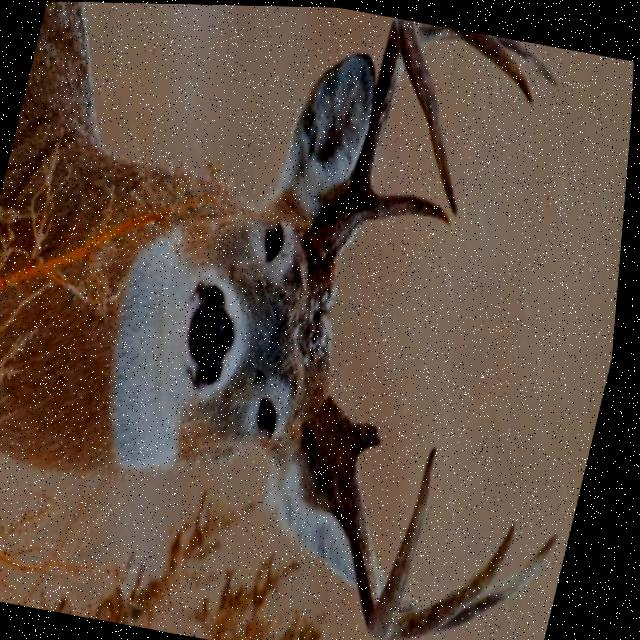L-F: (313, 15, 461, 265)
L-G1: (367, 184, 458, 226)
L-G3: (418, 19, 537, 103)
R-F: (313, 391, 444, 637)
R-G1: (359, 419, 389, 457)
R-G3: (392, 517, 525, 640)
